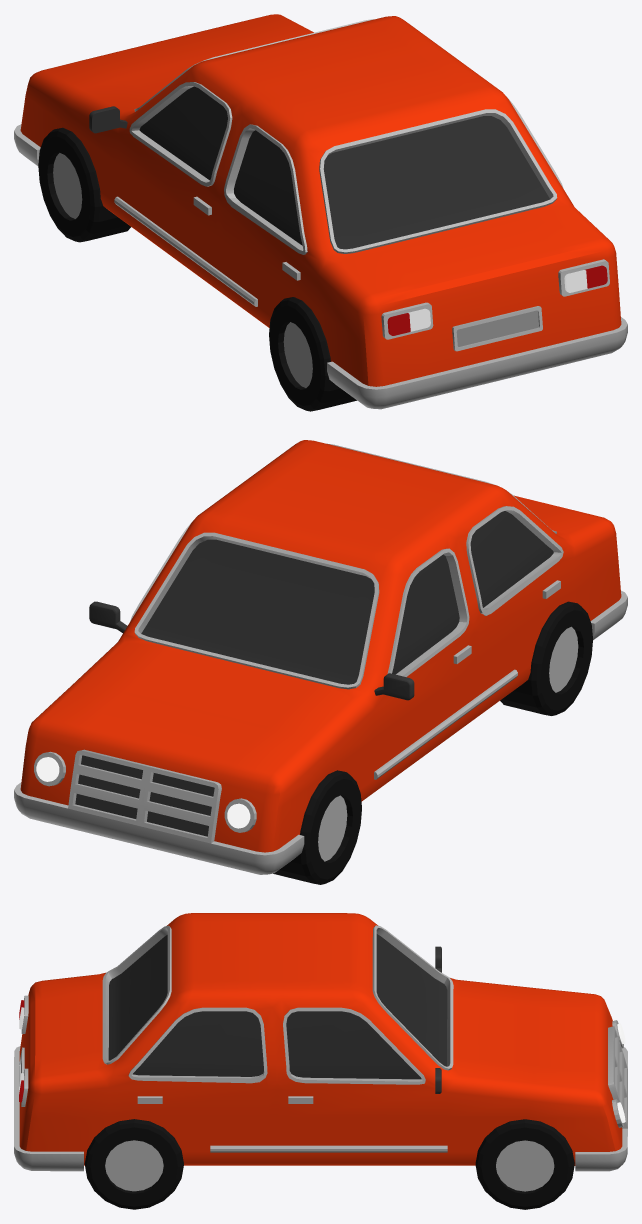
File: low-poly-car-rotated.glb
The picture shows the model from 3 angles, top to bottom: view 1: azimuth 30°, elevation 25°; view 2: azimuth 150°, elevation 25°; view 3: azimuth 270°, elevation 25°; orthographic projection. The views are drawn at different scales.
Parts seen in each view (by area): view 1: Car.020; view 2: Car.020; view 3: Car.020.
Part boxes in pixels (x1,y1,x2,y2): Car.020: (14, 14, 627, 411); Car.020: (14, 440, 627, 884); Car.020: (14, 913, 627, 1209).
Bounding box in the file's own units: 1.81 × 1.29 × 3.52.
